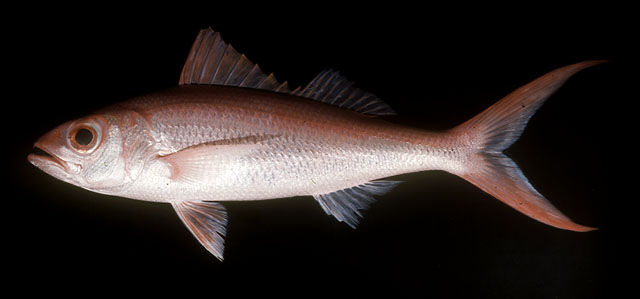fish: (26, 25, 601, 262)
